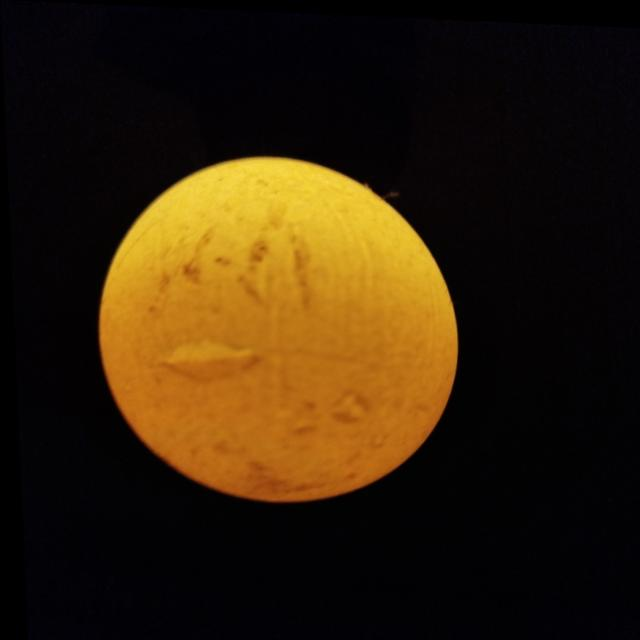Rachadura: (159, 339, 253, 379)
